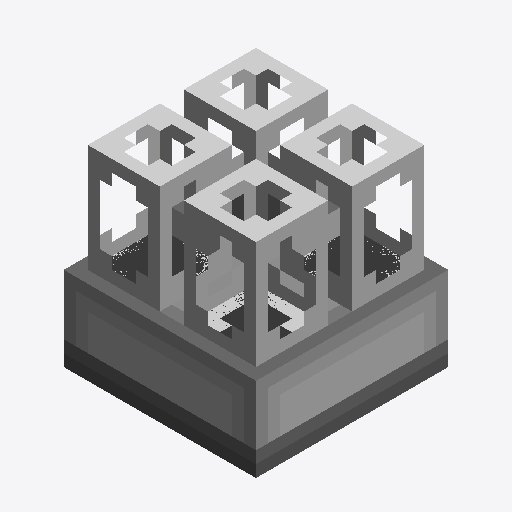
A Minecraft block model of 5 cuboids, rendered isometrically (azimuth 45°, elevation 35.3°) with the resource pack's own textures.
Parts seen in each view (by area): element 5, element 3, element 1, element 4, element 2.
Boxes of the visible parts, x1=… form: element 5: x1=64, y1=194, x2=447, y2=477; element 3: x1=184, y1=159, x2=327, y2=366; element 1: x1=88, y1=104, x2=231, y2=310; element 4: x1=280, y1=104, x2=423, y2=310; element 2: x1=184, y1=48, x2=327, y2=199.
Bounding box in the file's own units: 16 × 16 × 16.